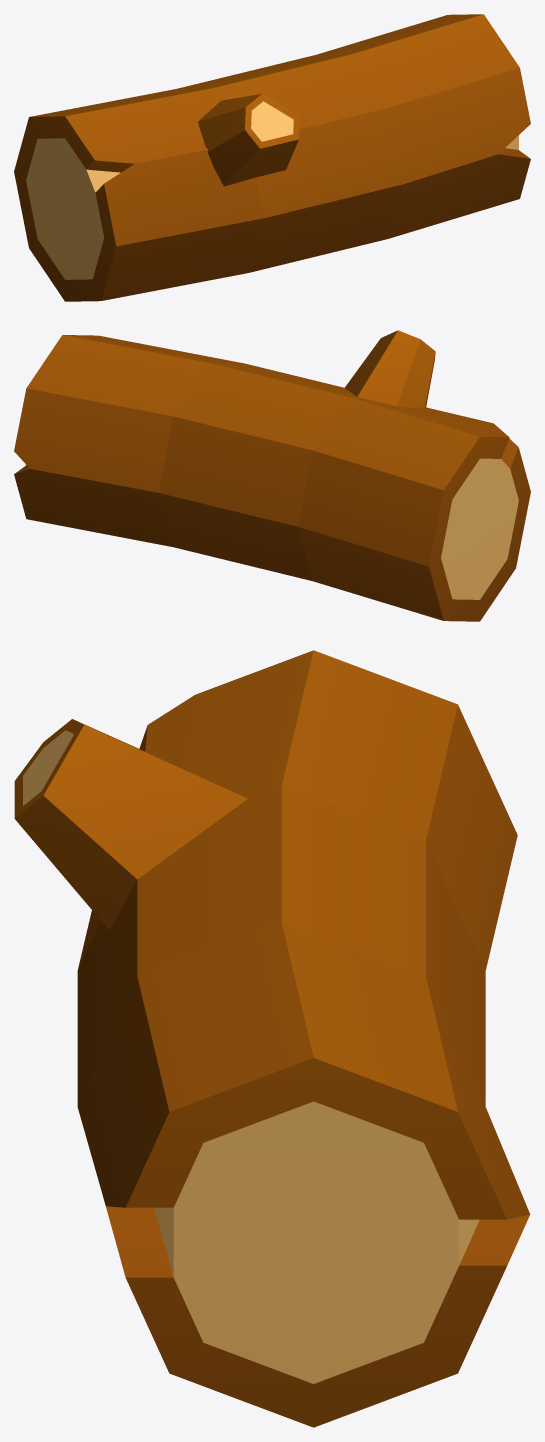
File: Collectable_Wood_Log_01.fbx
The picture shows the model from 3 angles, top to bottom: view 1: azimuth 30°, elevation 25°; view 2: azimuth 150°, elevation 25°; view 3: azimuth 270°, elevation 25°; orthographic projection. The views are drawn at different scales.
Parts seen in each view (by area): view 1: Collectable_Wood_Log_01; view 2: Collectable_Wood_Log_01; view 3: Collectable_Wood_Log_01.
Part boxes in pixels (x1,y1,x2,y2): Collectable_Wood_Log_01: [14, 14, 530, 301]; Collectable_Wood_Log_01: [14, 330, 530, 621]; Collectable_Wood_Log_01: [14, 650, 530, 1427].
Bounding box in the file's own units: 138 × 68 × 73.71.
